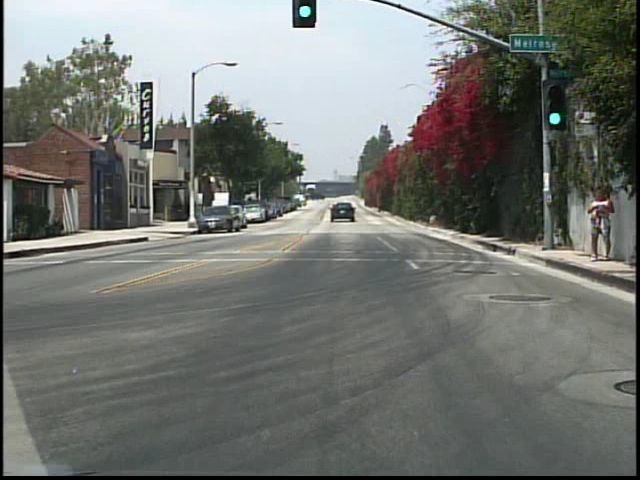person: (585, 187, 620, 264)
